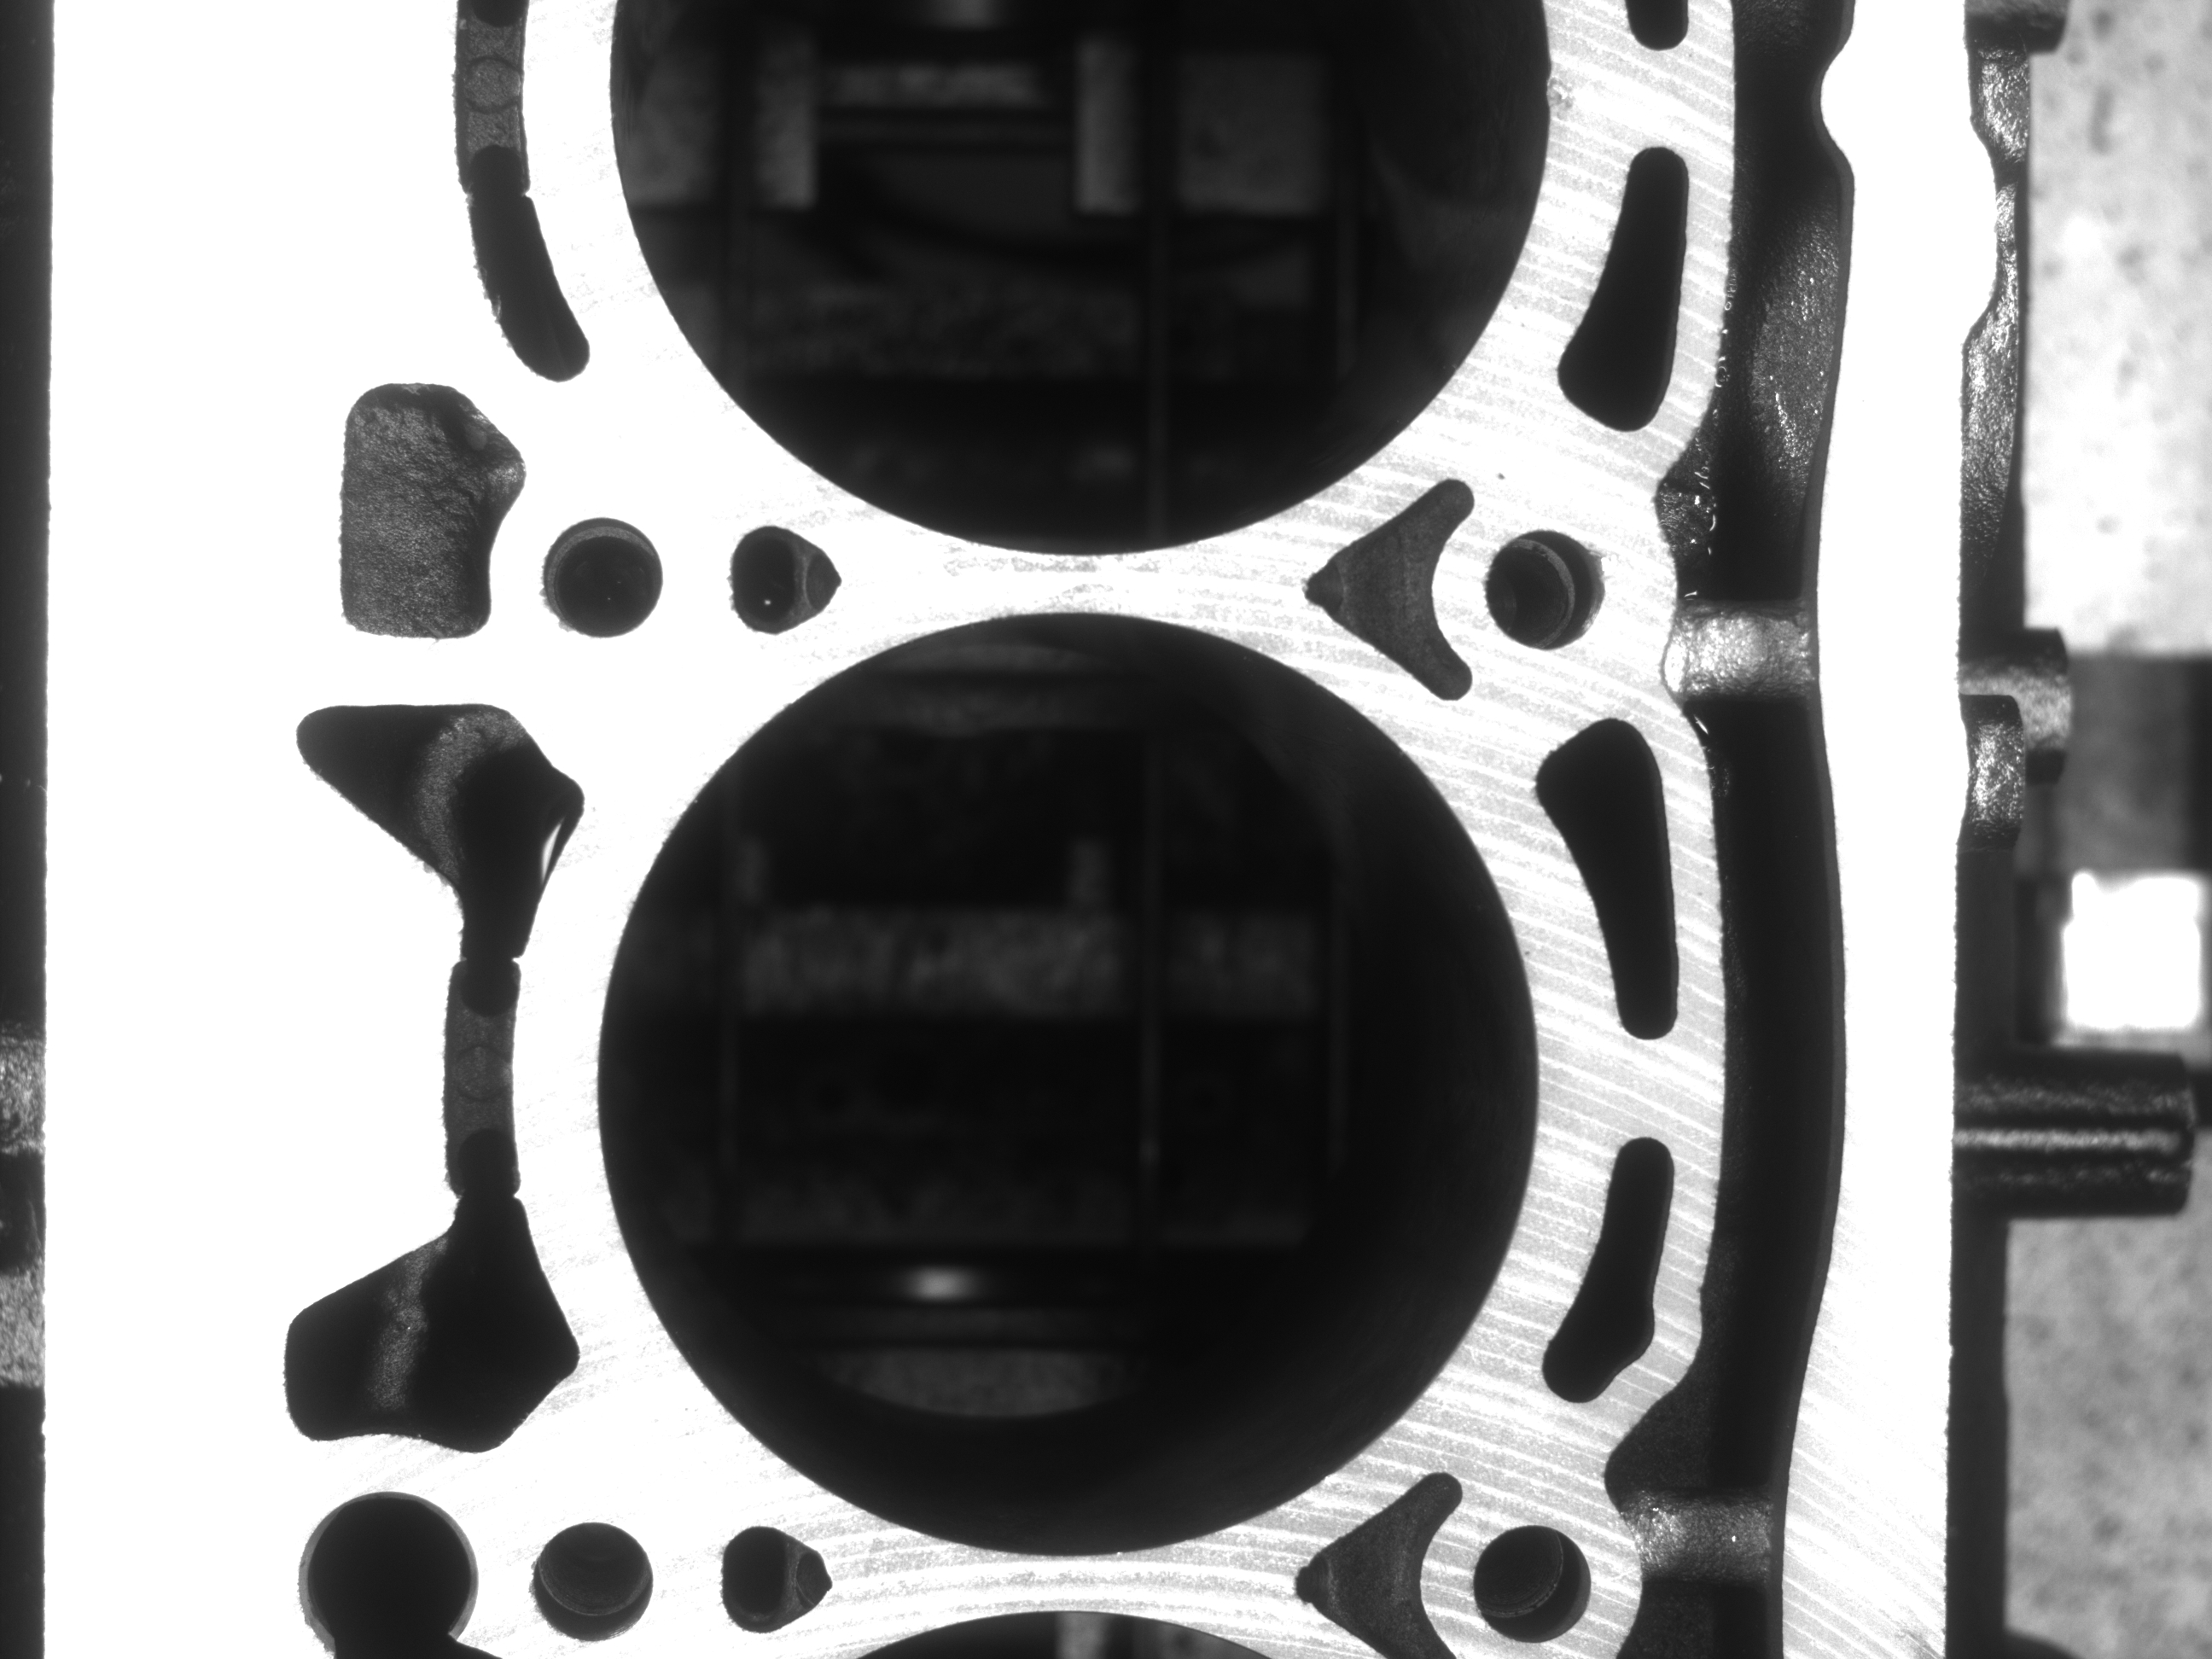sandhole: (1547, 73, 1578, 119)
shrinkage: (1589, 538, 1617, 577)
